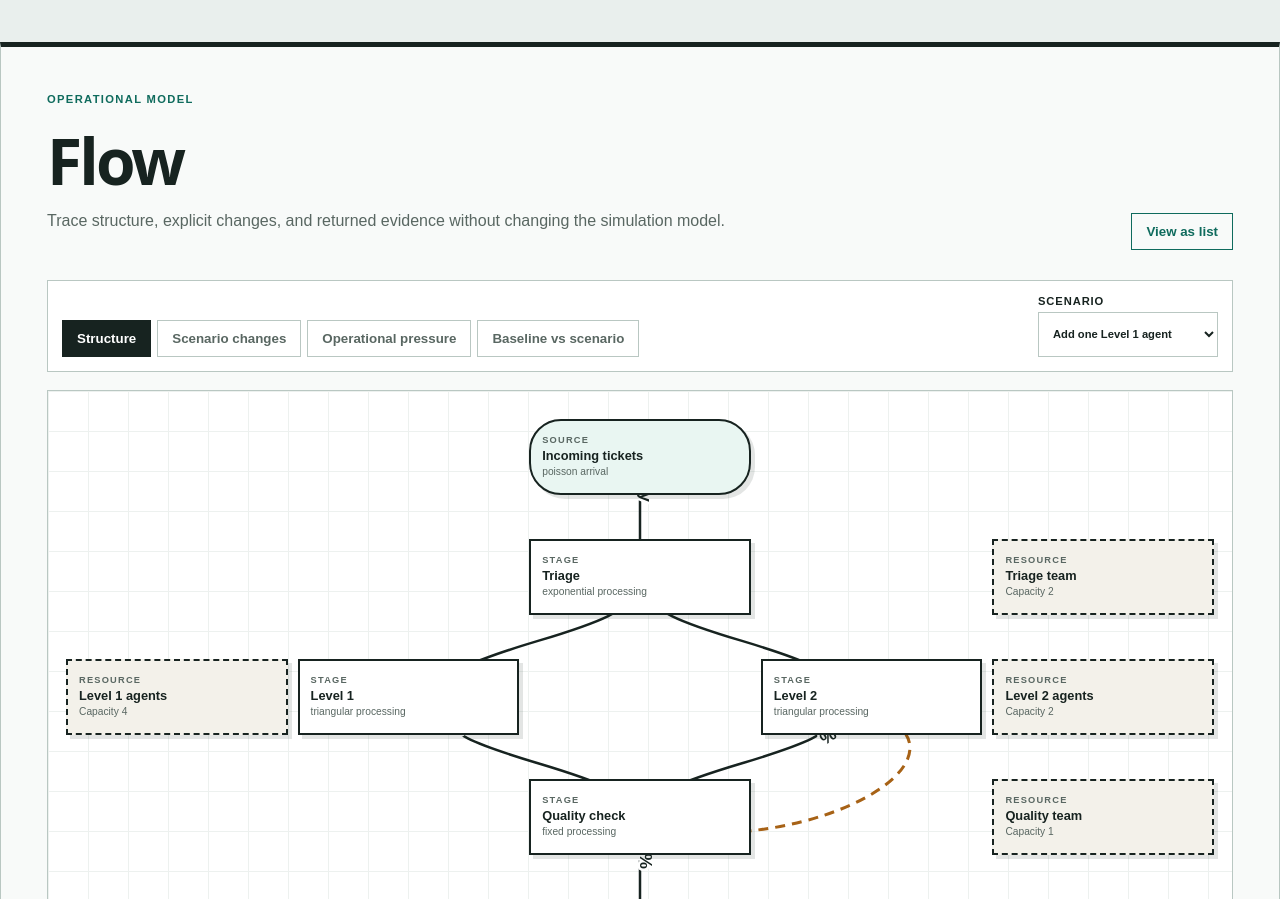
Test case: workflow visualization › renders returned pressure values and relative-intensity label
Step 1. Click the button "Operational pressure" → (389, 338), box [307,320,471,357]
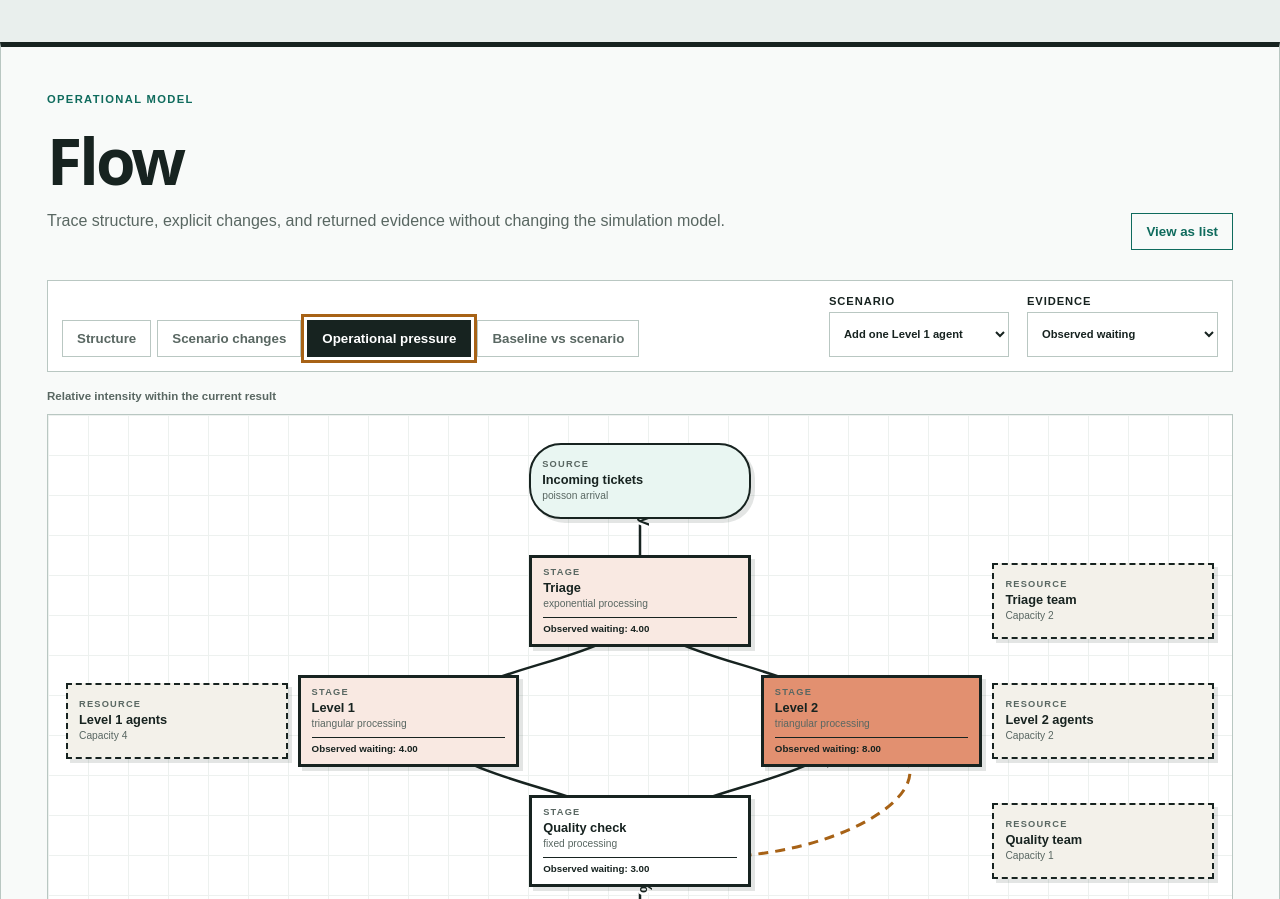
Result: the text "Relative intensity within the current result" is shown at [47,390,276,402]
Result: the button labelled "stage Triage exponential processing Observed waiting: 4.00" is shown at [529,555,751,646]
